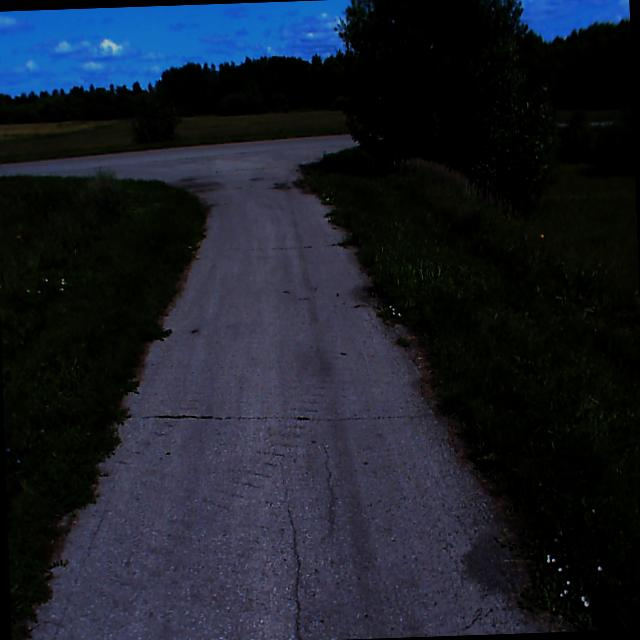road: (0, 133, 559, 640)
